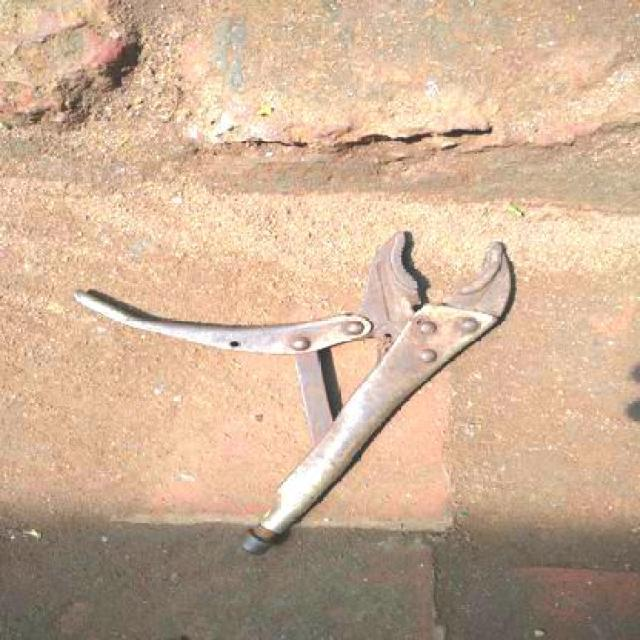pliers: (71, 227, 517, 562)
